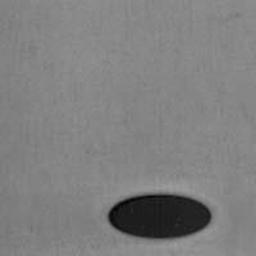Punching: (106, 193, 214, 241)
